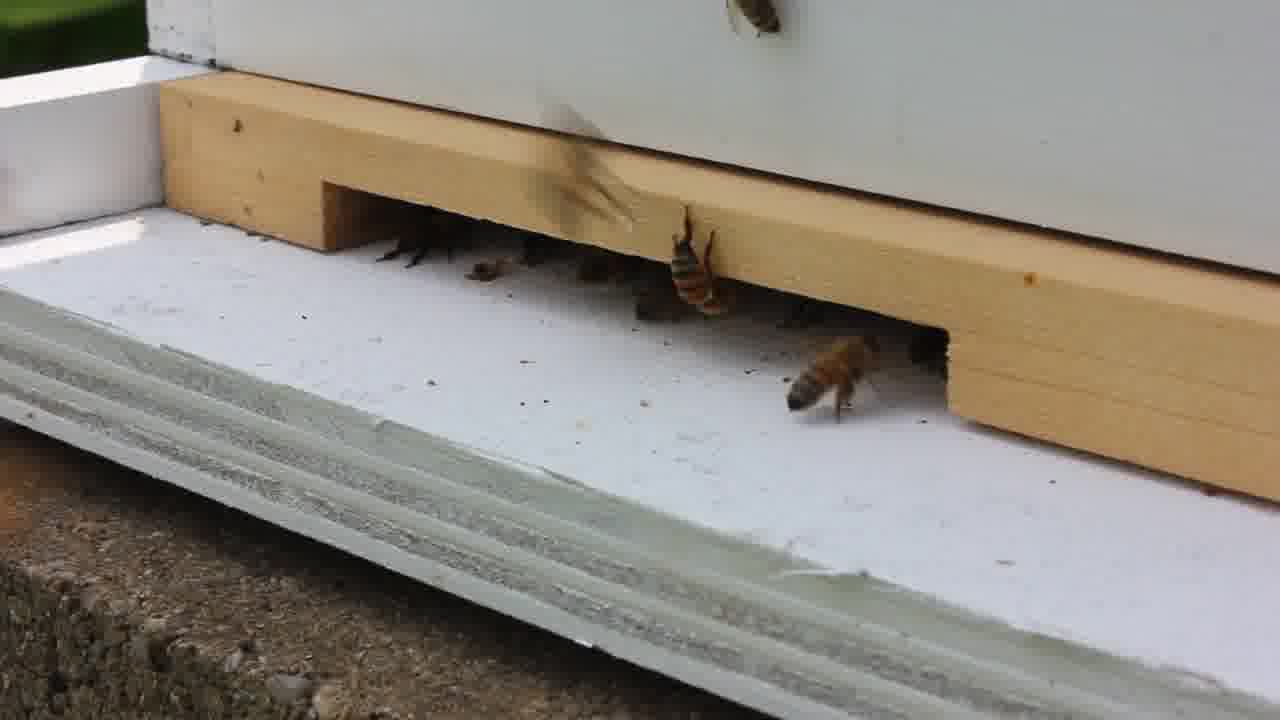pollen: (790, 337, 879, 427)
